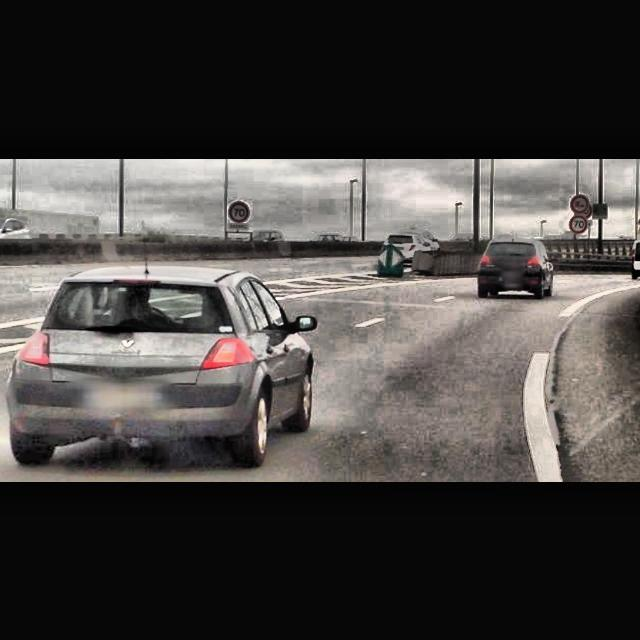speed_70: (228, 201, 248, 221), (570, 214, 586, 232)
